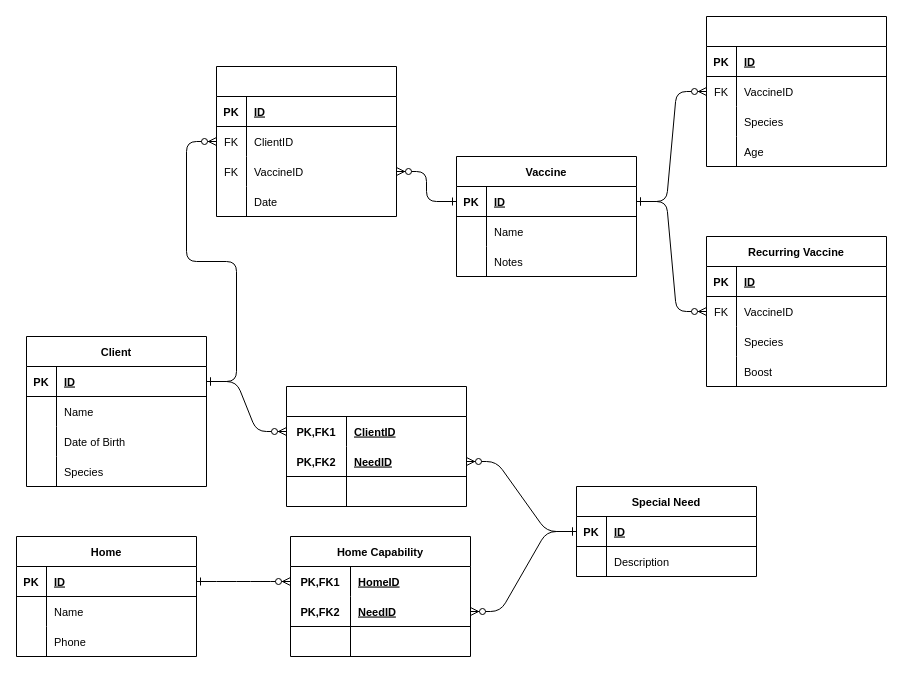
The diagram is 903 pixels wide and 673 high, and some of its shapes have lost their labels. The shapes that lost their labels are listed below. From the top down, each one's box as (x1, y1, x2, y2) in pixels, then its label:
(706, 16, 886, 166): Vaccination Schedule
(216, 66, 396, 216): Vaccination
(286, 386, 466, 506): Animal Need
